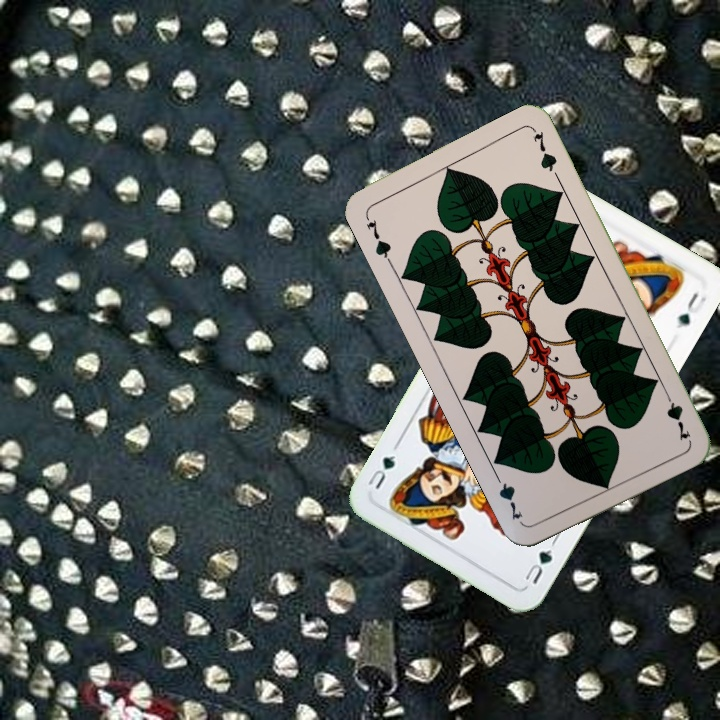G7: (660, 386, 694, 443), (361, 211, 394, 266)
GU: (519, 535, 559, 587)
